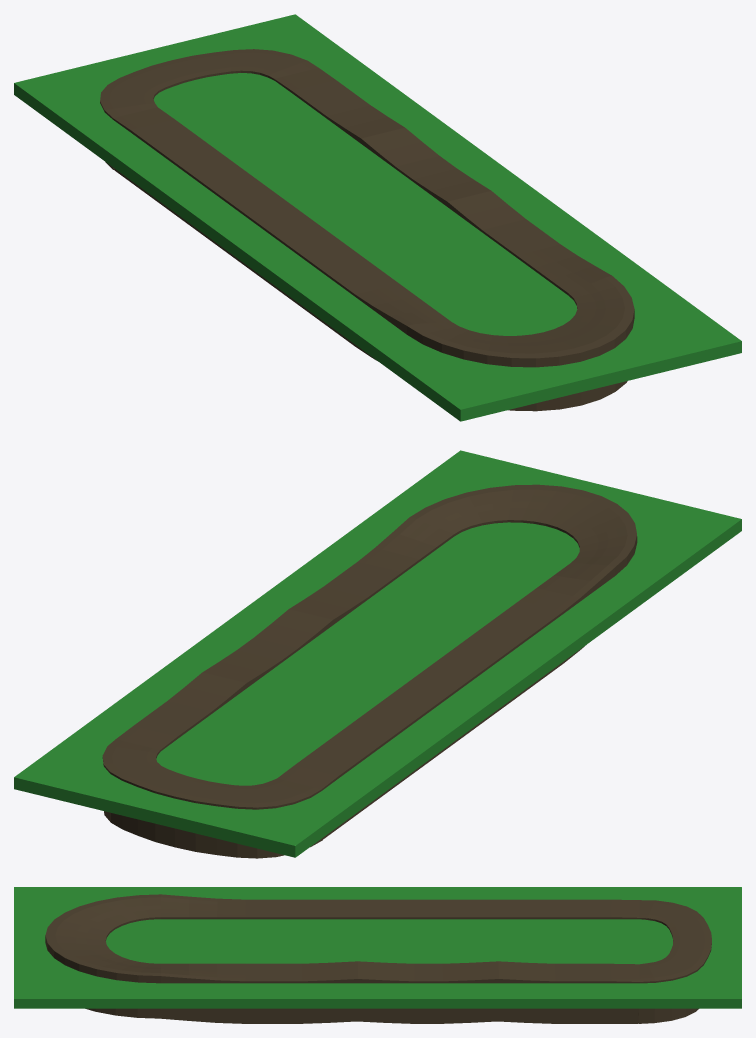
File: sakuraStage2.fbx
The picture shows the model from 3 angles, top to bottom: view 1: azimuth 30°, elevation 25°; view 2: azimuth 150°, elevation 25°; view 3: azimuth 270°, elevation 25°; orthographic projection. The views are drawn at different scales.
Parts seen in each view (by area): view 1: 立方体.003, Circle.001; view 2: 立方体.003, Circle.001; view 3: 立方体.003, Circle.001.
Part boxes in pixels (left/top/right/bottom): 立方体.003: left=14, top=14, right=741, bottom=421; Circle.001: left=100, top=49, right=634, bottom=411; 立方体.003: left=14, top=450, right=741, bottom=857; Circle.001: left=102, top=484, right=637, bottom=858; 立方体.003: left=14, top=887, right=741, bottom=1008; Circle.001: left=45, top=894, right=711, bottom=1023.
Bounding box in the file's own units: 11896 × 2369 × 32692.
